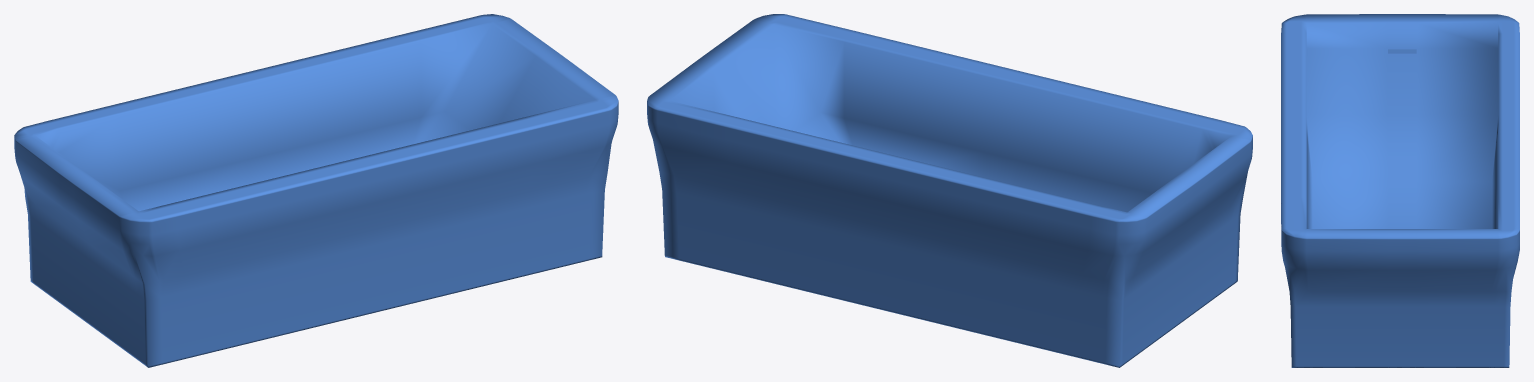
File: 872634_VASCA.obj
3 views of the same model, side by side, from view 1: azimuth 30°, elevation 25°; view 2: azimuth 150°, elevation 25°; view 3: azimuth 270°, elevation 25° (orthographic). The views are drawn at different scales.
Visible parts, largest first — view 1: Box002; view 2: Box002; view 3: Box002.
Boxes of the visible parts, bbox=[...] form: Box002: bbox=[14, 14, 618, 367]; Box002: bbox=[647, 14, 1252, 367]; Box002: bbox=[1281, 14, 1519, 367].
Size of the model in its own units: 688 by 200 by 309.
